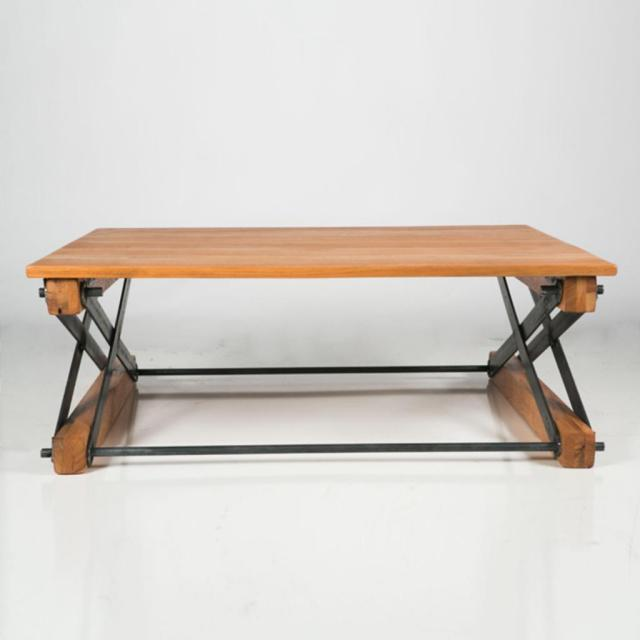Table: (22, 218, 610, 468)
